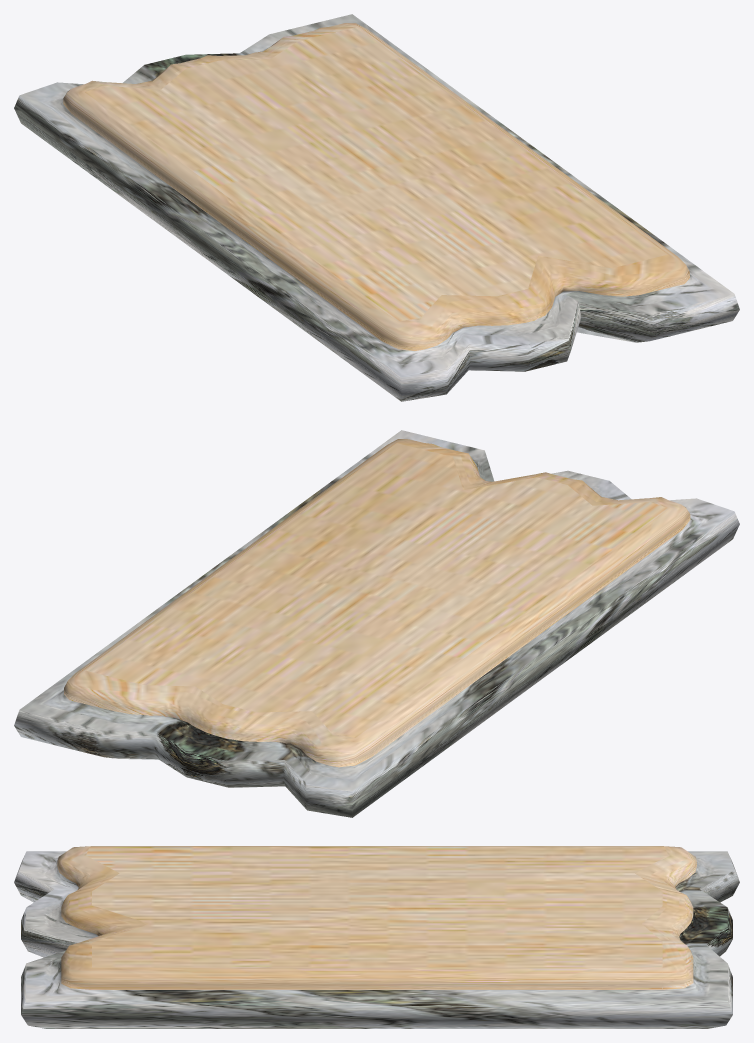
Rendered from Birch_Wood.fbx.
3 views of the same model, one above another, from view 1: azimuth 30°, elevation 25°; view 2: azimuth 150°, elevation 25°; view 3: azimuth 270°, elevation 25° (orthographic). The views are drawn at different scales.
Visible parts, largest first — view 1: Brich_Bark; view 2: Brich_Bark; view 3: Brich_Bark.
Boxes of the visible parts, x1,y1,x2,y2 form: Brich_Bark: (14,14,739,401); Brich_Bark: (14,430,739,817); Brich_Bark: (14,846,739,1028).
Bounding box in the file's own units: 635 × 100 × 1287.
